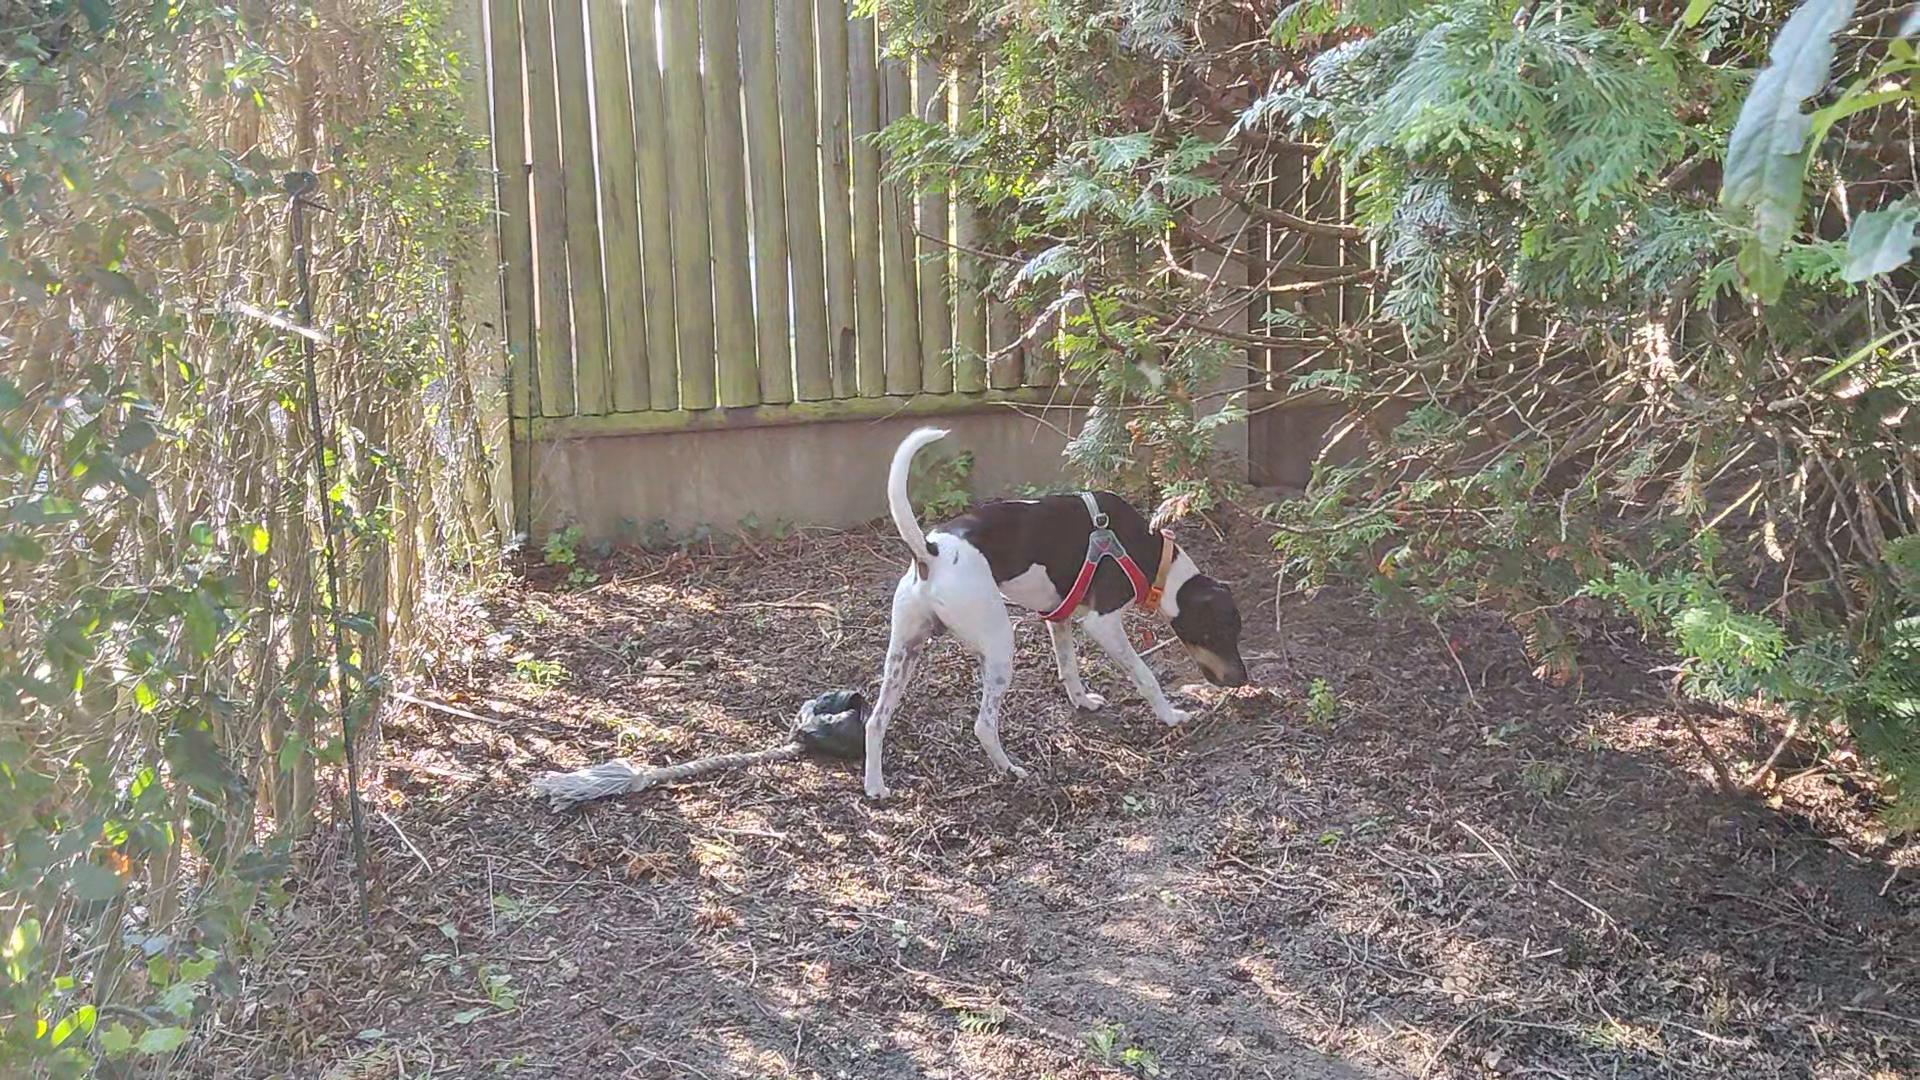Dog: (839, 415, 1263, 804)
